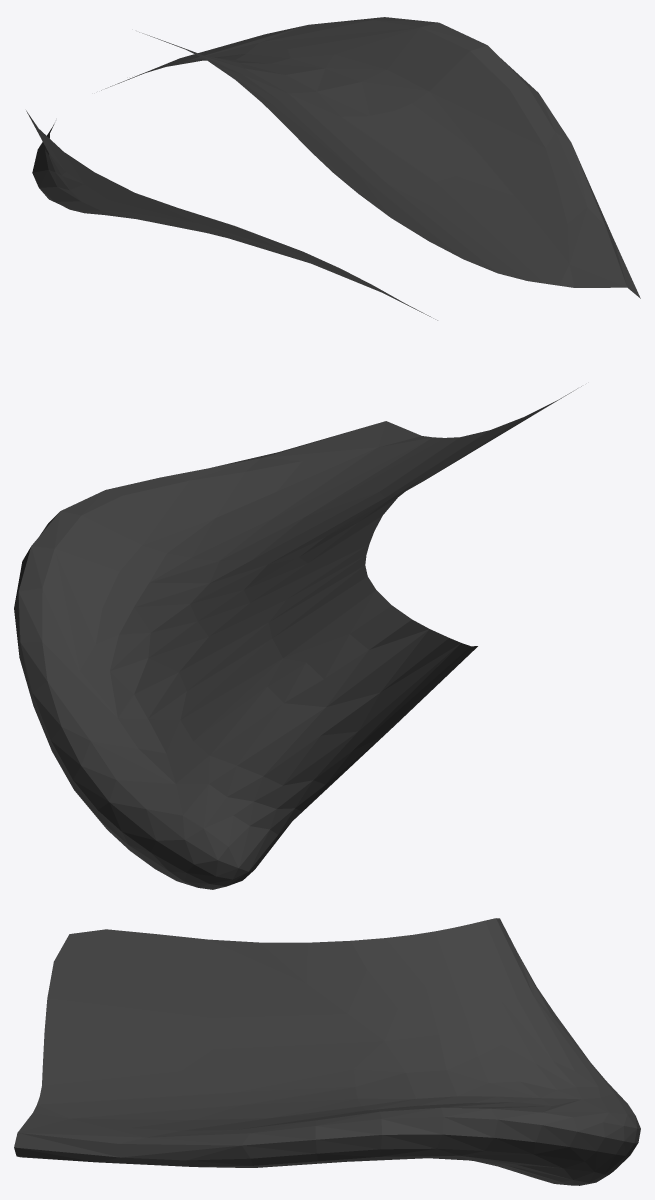
Rendered from Scapula_acromion.glb.
3 views of the same model, one above another, from view 1: azimuth 30°, elevation 25°; view 2: azimuth 150°, elevation 25°; view 3: azimuth 270°, elevation 25° (orthographic). The views are drawn at different scales.
Visible parts, largest first — view 1: Scapula_acromion; view 2: Scapula_acromion; view 3: Scapula_acromion.
Part boxes in pixels (box(x1,y1,x2,y2)): Scapula_acromion: box(26, 17, 640, 320); Scapula_acromion: box(14, 386, 581, 889); Scapula_acromion: box(14, 918, 640, 1185).
Bounding box in the file's own units: 0.2583 × 0.1532 × 0.3987.
1 material, 1 textured.
